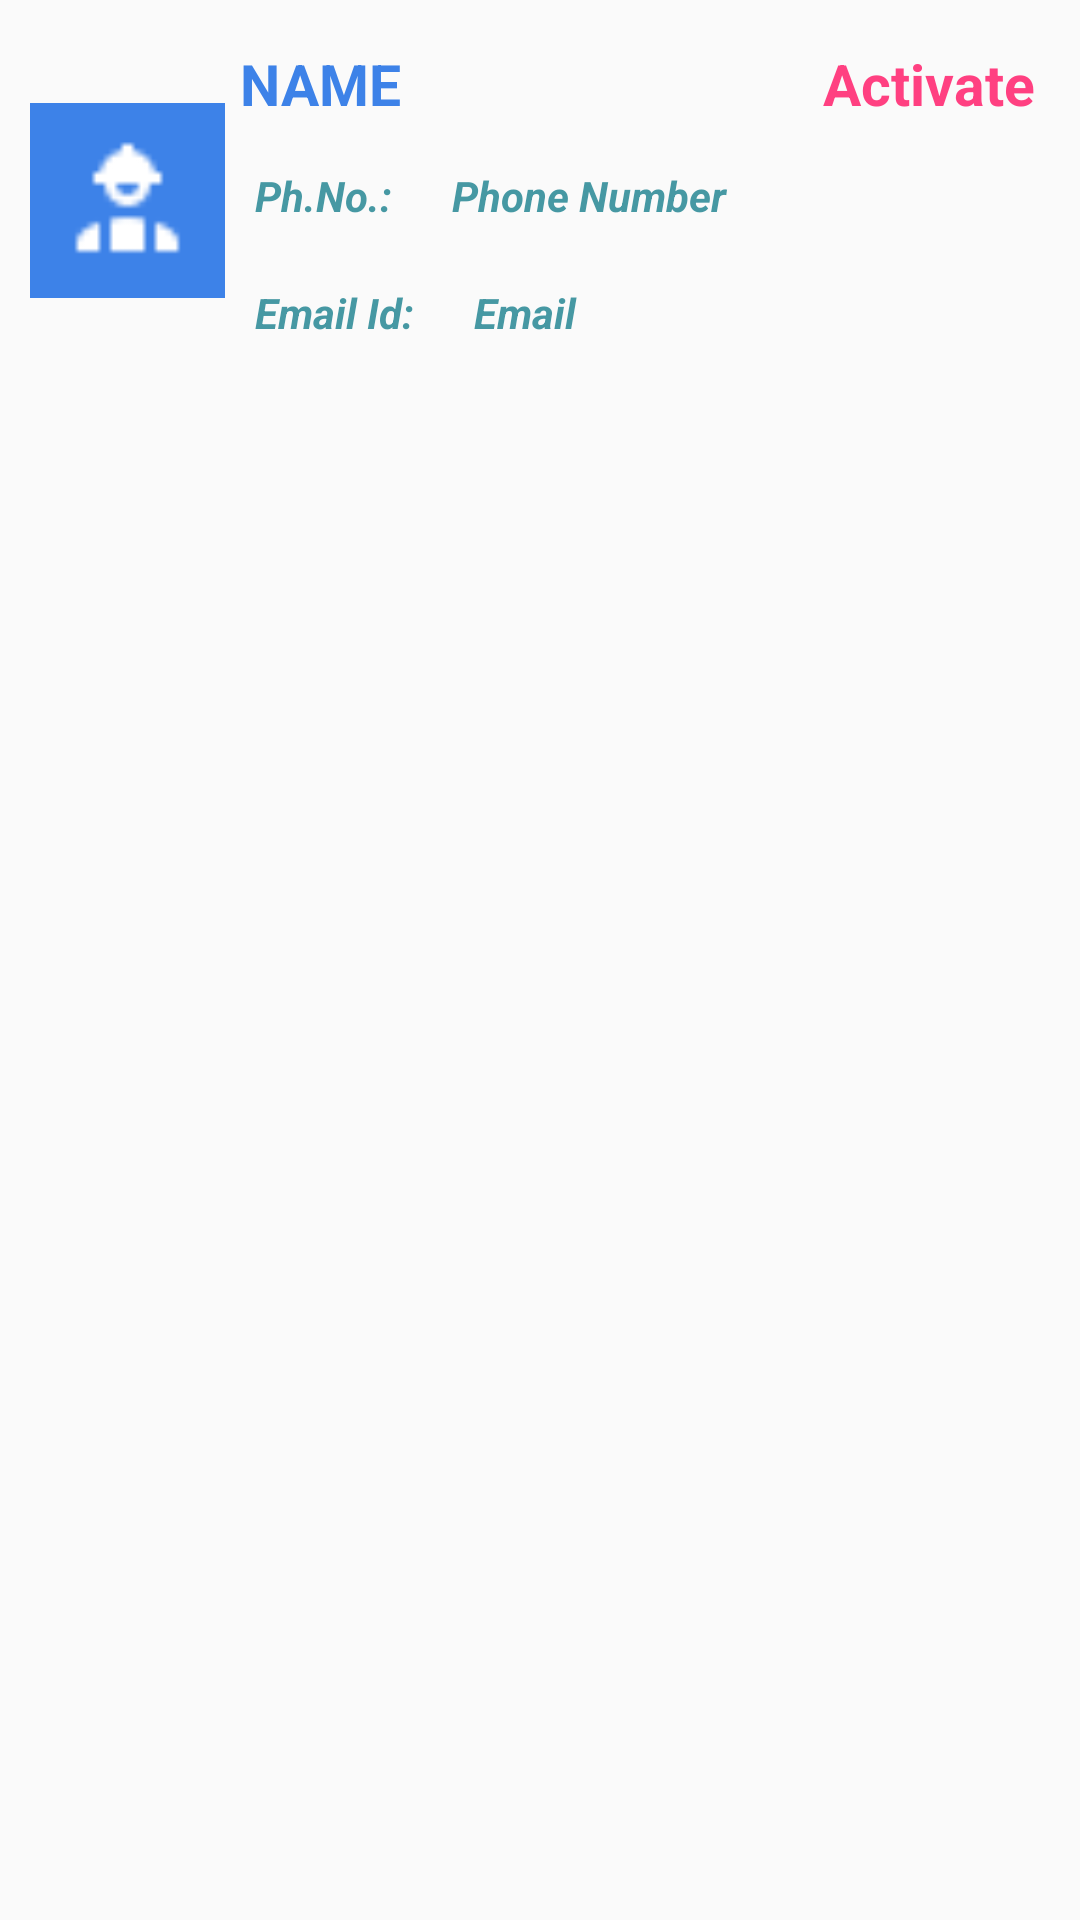

Screen size 1080 x 1920. Icon name, then its center in pixels as [x,y]:
emp admin: [127,200]
